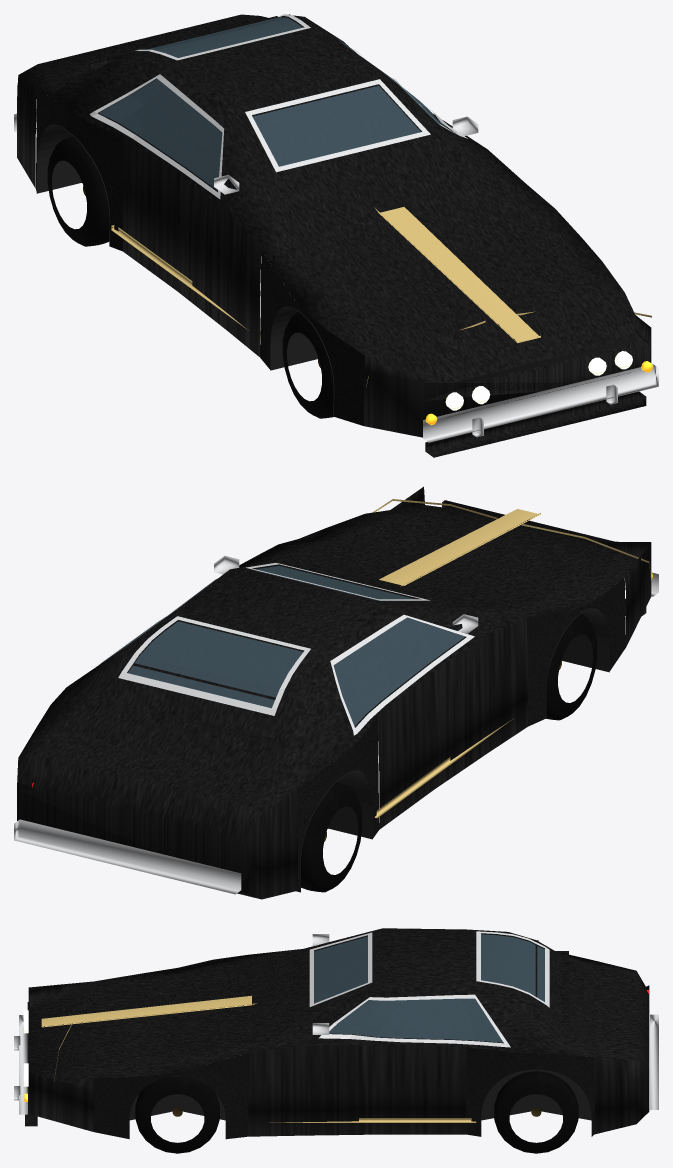
Rendered from javelin-amx-v2.glb.
3 views of the same model, one above another, from view 1: azimuth 30°, elevation 25°; view 2: azimuth 150°, elevation 25°; view 3: azimuth 270°, elevation 25° (orthographic). The views are drawn at different scales.
Visible parts, largest first — view 1: Body, Glass, Bumper_Front, Hood_T_Stripe, Window_Frames, Wheel_Wells, Wheel_RL, Wheel_FL, Grille, Headlights, Mirrors; view 2: Body, Glass, Bumper_Rear, Window_Frames, Hood_T_Stripe, Wheel_Wells, Wheel_RL, Wheel_FL, Grille, Mirrors; view 3: Body, Glass, Wheel_RR, Wheel_FR, Window_Frames, Wheel_Wells, Hood_T_Stripe, Bumper_Front, Bumper_Rear, Mirrors.
Part boxes in pixels (x1=…): Body: x1=17, y1=14, x2=651, y2=457; Glass: x1=99, y1=17, x2=453, y2=190; Bumper_Front: x1=423, y1=364, x2=658, y2=442; Hood_T_Stripe: x1=111, y1=207, x2=651, y2=386; Window_Frames: x1=89, y1=14, x2=467, y2=199; Wheel_Wells: x1=36, y1=124, x2=334, y2=416; Wheel_RL: x1=47, y1=136, x2=109, y2=246; Wheel_FL: x1=282, y1=311, x2=333, y2=418; Grille: x1=445, y1=340, x2=631, y2=417; Headlights: x1=445, y1=351, x2=632, y2=410; Mirrors: x1=214, y1=116, x2=478, y2=194; Body: x1=17, y1=486, x2=651, y2=899; Glass: x1=99, y1=566, x2=464, y2=726; Bumper_Rear: x1=14, y1=819, x2=241, y2=894; Window_Frames: x1=118, y1=563, x2=474, y2=735; Hood_T_Stripe: x1=372, y1=499, x2=651, y2=818; Wheel_Wells: x1=296, y1=608, x2=609, y2=892; Wheel_RL: x1=301, y1=782, x2=362, y2=892; Wheel_FL: x1=546, y1=613, x2=597, y2=720; Grille: x1=442, y1=500, x2=614, y2=541; Mirrors: x1=214, y1=556, x2=478, y2=633; Body: x1=25, y1=928, x2=649, y2=1139; Glass: x1=314, y1=934, x2=544, y2=1042; Wheel_RR: x1=494, y1=1071, x2=578, y2=1153; Wheel_FR: x1=135, y1=1077, x2=219, y2=1153; Window_Frames: x1=309, y1=931, x2=549, y2=1047; Wheel_Wells: x1=129, y1=1069, x2=591, y2=1120; Hood_T_Stripe: x1=41, y1=995, x2=476, y2=1122; Bumper_Front: x1=14, y1=1015, x2=27, y2=1114; Bumper_Rear: x1=650, y1=1014, x2=658, y2=1109; Mirrors: x1=312, y1=934, x2=329, y2=1034.
Size of the model in its own units: 1.96 by 1.29 by 5.02.
12 materials, 2 textured.
